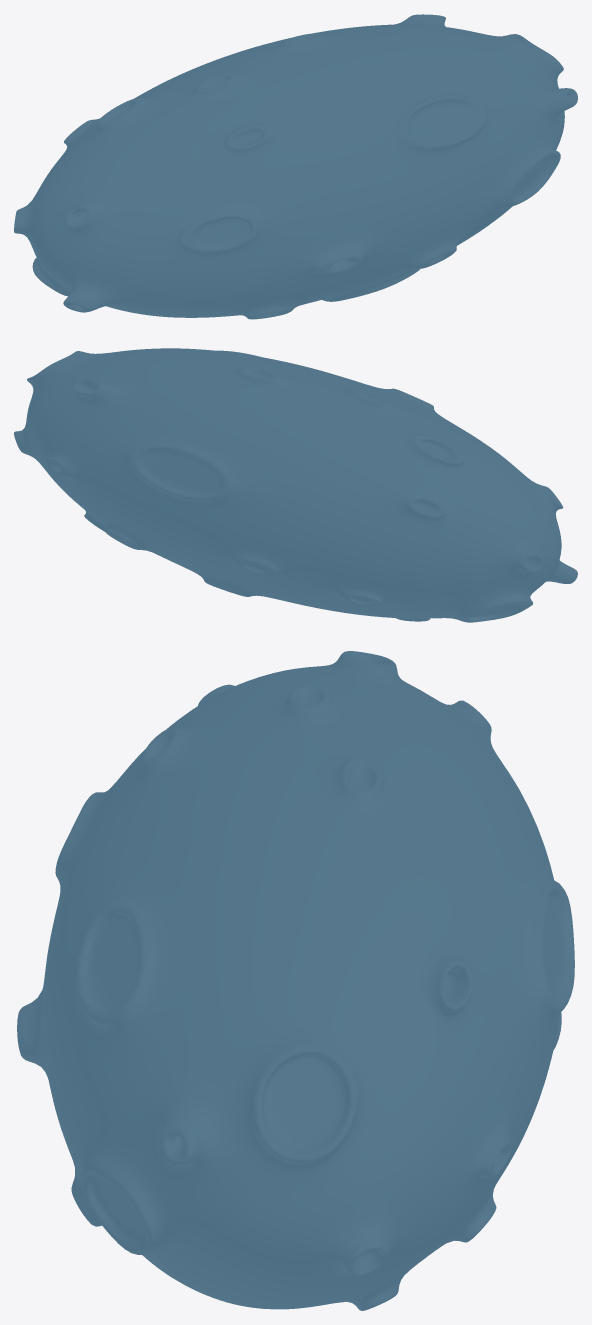
File: asteroide_2.glb
3 views of the same model, one above another, from view 1: azimuth 30°, elevation 25°; view 2: azimuth 150°, elevation 25°; view 3: azimuth 270°, elevation 25° (orthographic). The views are drawn at different scales.
Parts seen in each view (by area): view 1: Moon; view 2: Moon; view 3: Moon.
Part boxes in pixels (x1,y1,x2,y2): Moon: [14, 14, 577, 319]; Moon: [14, 348, 577, 622]; Moon: [17, 651, 574, 1310].
Bounding box in the file's own units: 2.28 × 0.9539 × 1.03.
